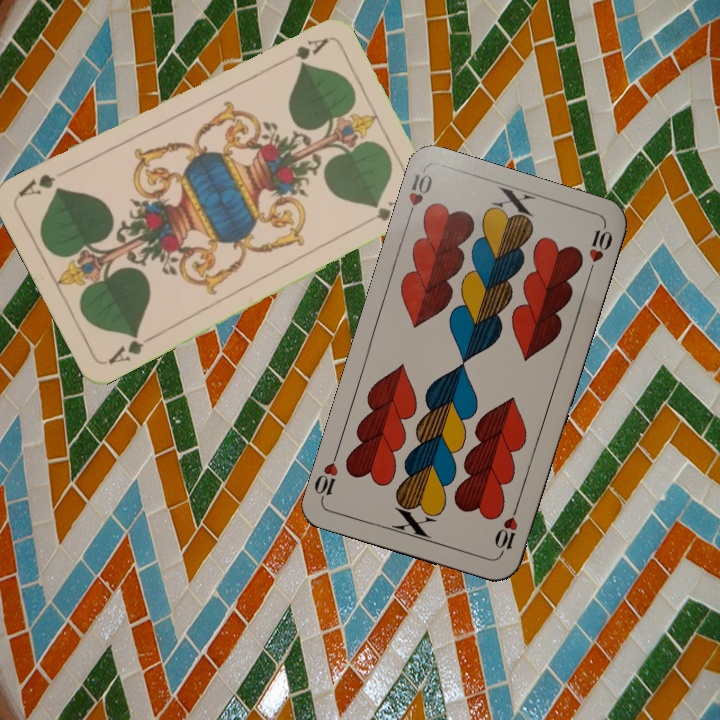GA: (104, 328, 157, 367), (274, 34, 330, 68)
H10: (402, 167, 435, 225), (490, 500, 522, 558)
